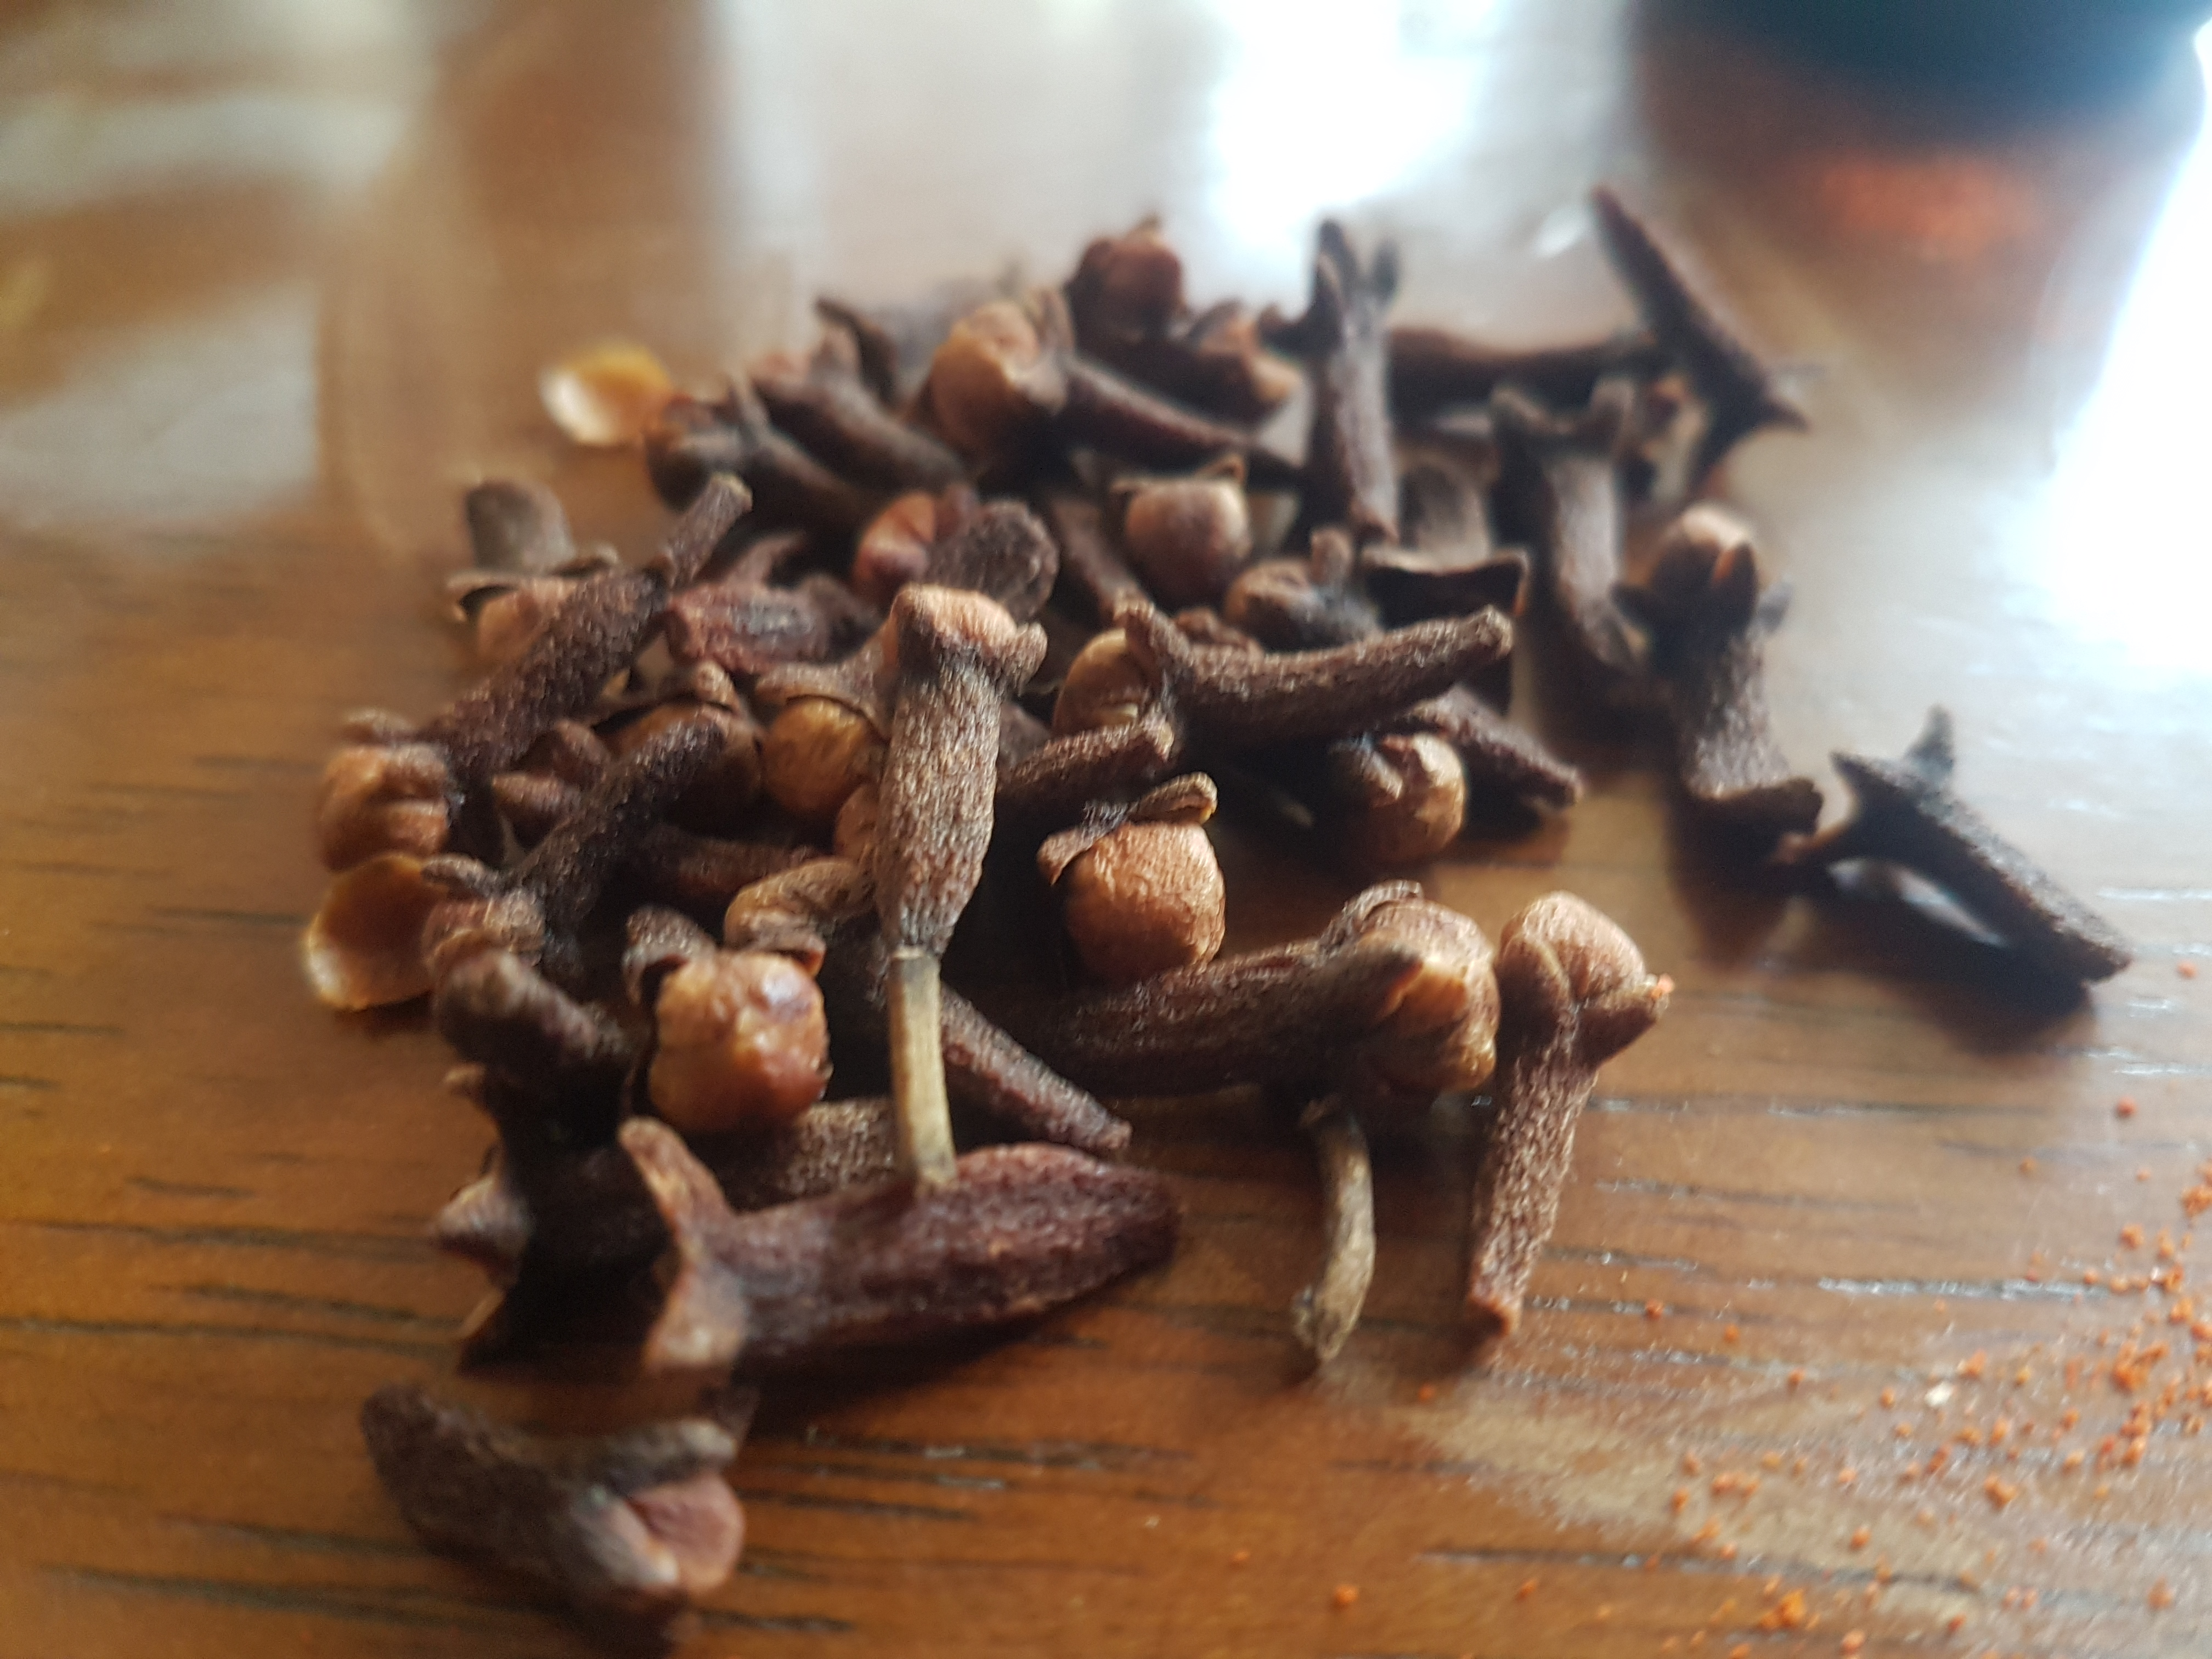Cloves: (268, 190, 2198, 1659)
